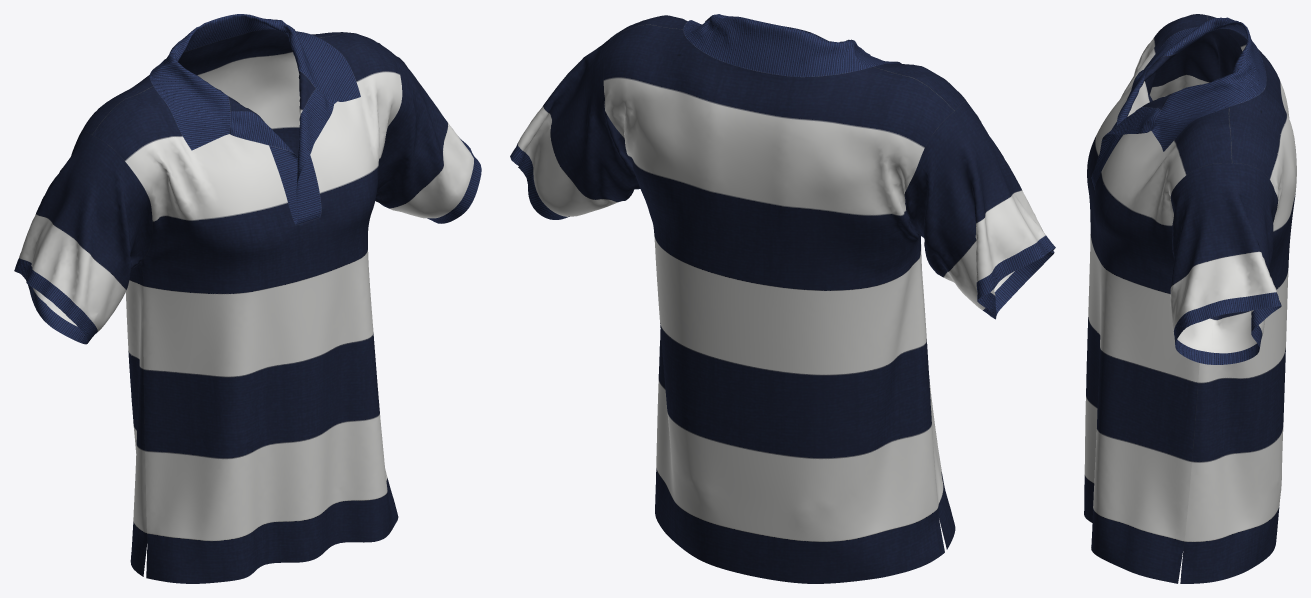
Rendered from t-shirt8.glb.
The picture shows the model from 3 angles, left to right: view 1: azimuth 30°, elevation 25°; view 2: azimuth 150°, elevation 25°; view 3: azimuth 270°, elevation 25°; orthographic projection. The views are drawn at different scales.
Parts seen in each view (by area): view 1: AM_102_035_003; view 2: AM_102_035_003; view 3: AM_102_035_003.
Part boxes in pixels (bbox=[...]): AM_102_035_003: bbox=[14, 14, 481, 583]; AM_102_035_003: bbox=[510, 14, 1055, 583]; AM_102_035_003: bbox=[1084, 14, 1296, 583].
Size of the model in its own units: 71.86 by 75.6 by 29.33.
2 materials, 1 textured.
